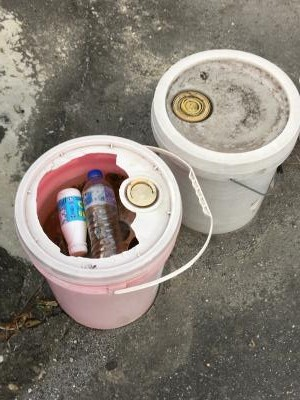bottle: (81, 167, 126, 259), (54, 183, 95, 259)
bucket: (13, 128, 189, 337), (147, 45, 300, 239)
